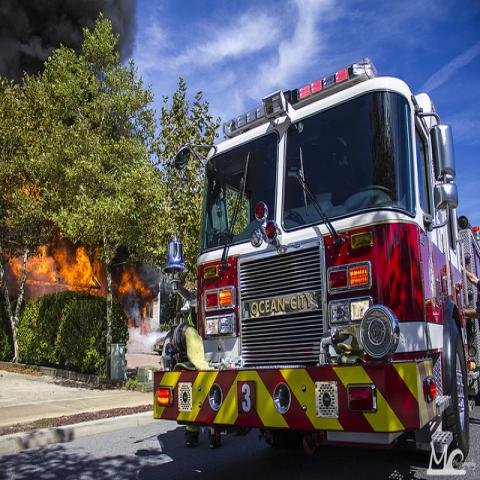truck: (151, 56, 479, 464)
